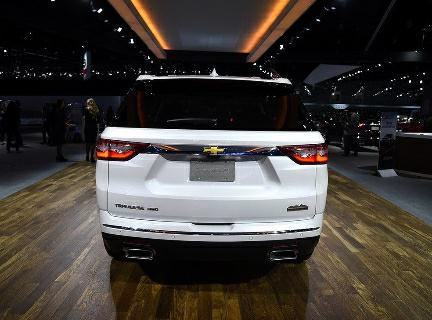雪佛兰-Traverse: (82, 65, 334, 269)
